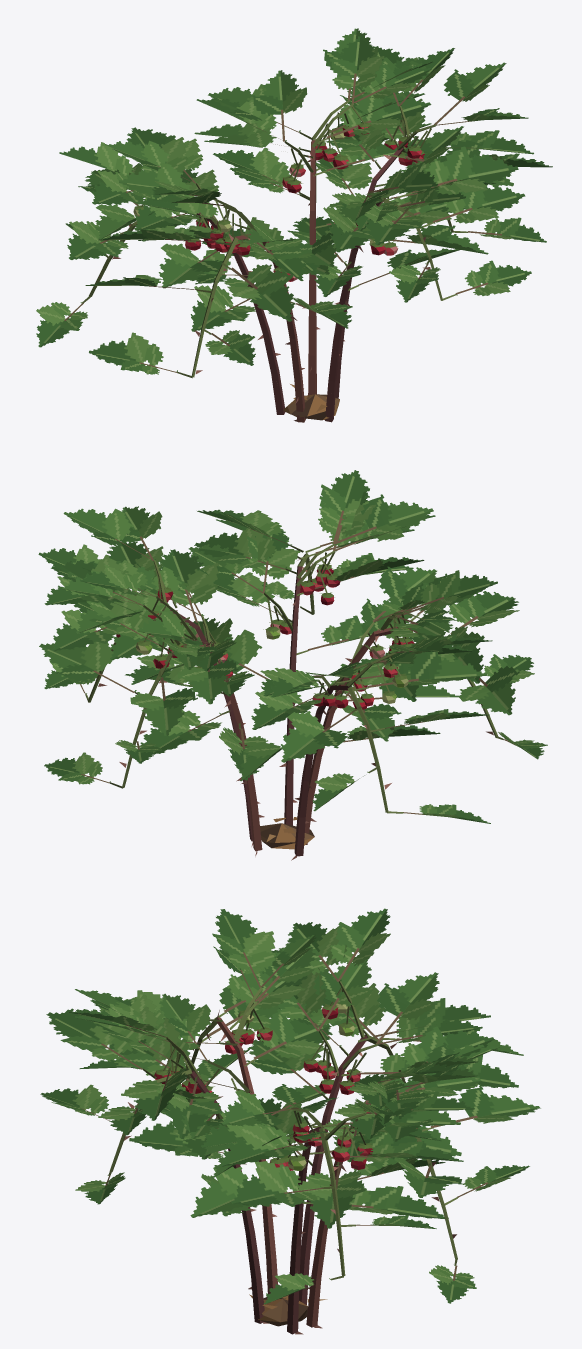
File: raspberry_bush2_v1.fbx
3 views of the same model, one above another, from view 1: azimuth 30°, elevation 25°; view 2: azimuth 150°, elevation 25°; view 3: azimuth 270°, elevation 25° (orthographic). The views are drawn at different scales.
Visible parts, largest first — view 1: raspberry_bush2_v1; view 2: raspberry_bush2_v1; view 3: raspberry_bush2_v1.
Part boxes in pixels (<box>): raspberry_bush2_v1: <box>36,28,552,422</box>; raspberry_bush2_v1: <box>38,470,547,860</box>; raspberry_bush2_v1: <box>40,908,540,1334</box>.
Size of the model in its own units: 180 by 109 by 159.
